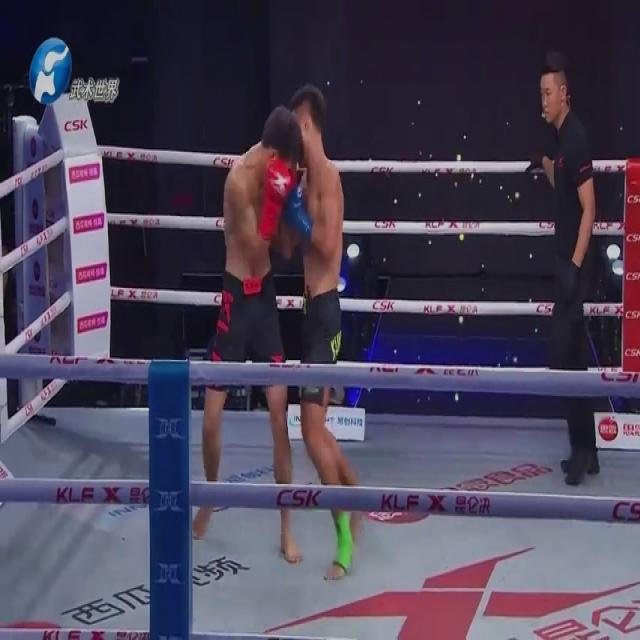fight: (195, 81, 369, 583)
non-fight: (538, 61, 625, 496)
